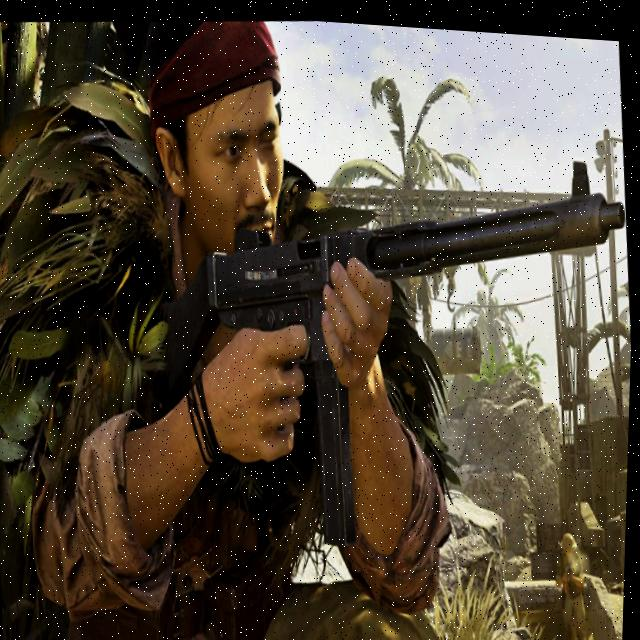firearm: (148, 120, 637, 572)
